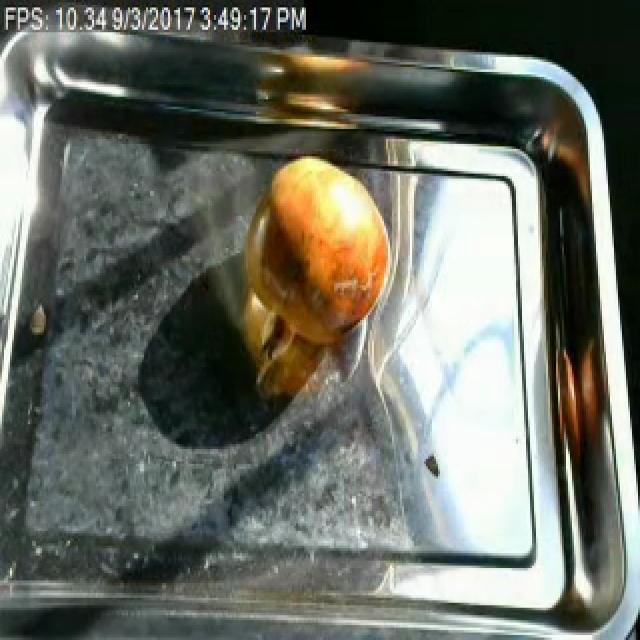fruit: (238, 146, 402, 360)
